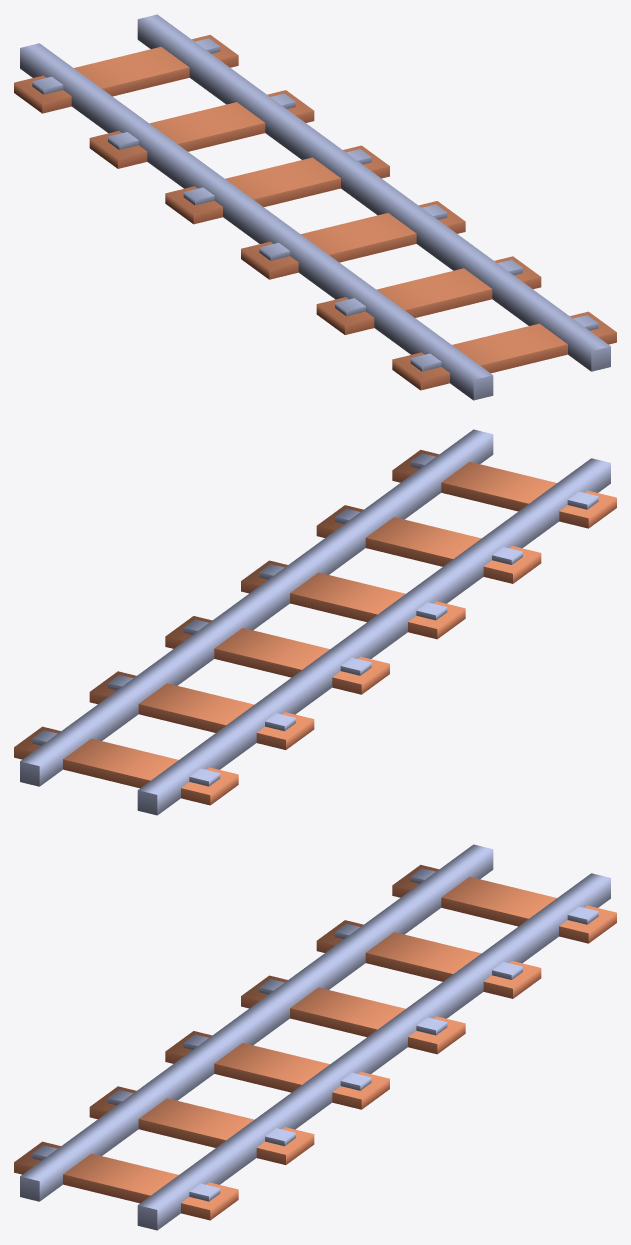
File: railroad-straight.glb
3 views of the same model, one above another, from view 1: azimuth 30°, elevation 25°; view 2: azimuth 150°, elevation 25°; view 3: azimuth 330°, elevation 25° (orthographic).
Parts seen in each view (by area): view 1: railroad-straight; view 2: railroad-straight; view 3: railroad-straight.
Boxes of the visible parts, x1,y1,x2,y2 form: railroad-straight: (14, 14, 616, 400); railroad-straight: (14, 429, 616, 815); railroad-straight: (14, 844, 616, 1230).
Bounding box in the file's own units: 1 × 0.1001 × 4.
1 material, 1 textured.
